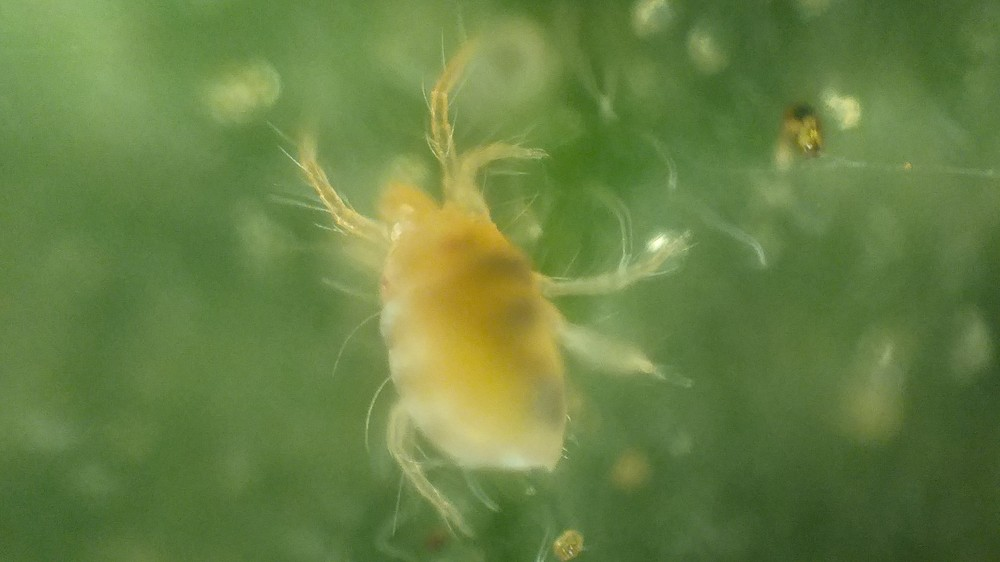Aracnido Rojo: (255, 57, 715, 525)
